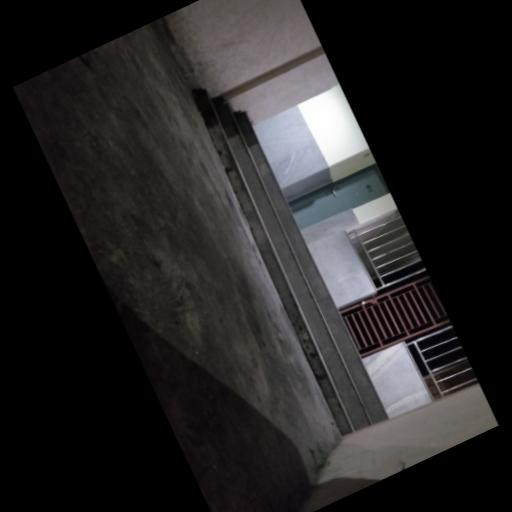stairs: (193, 89, 385, 433)
